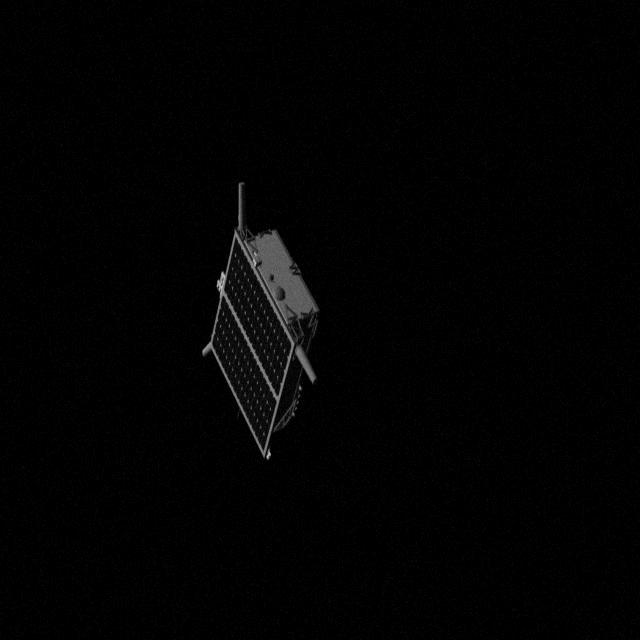satellite: (202, 178, 326, 468)
